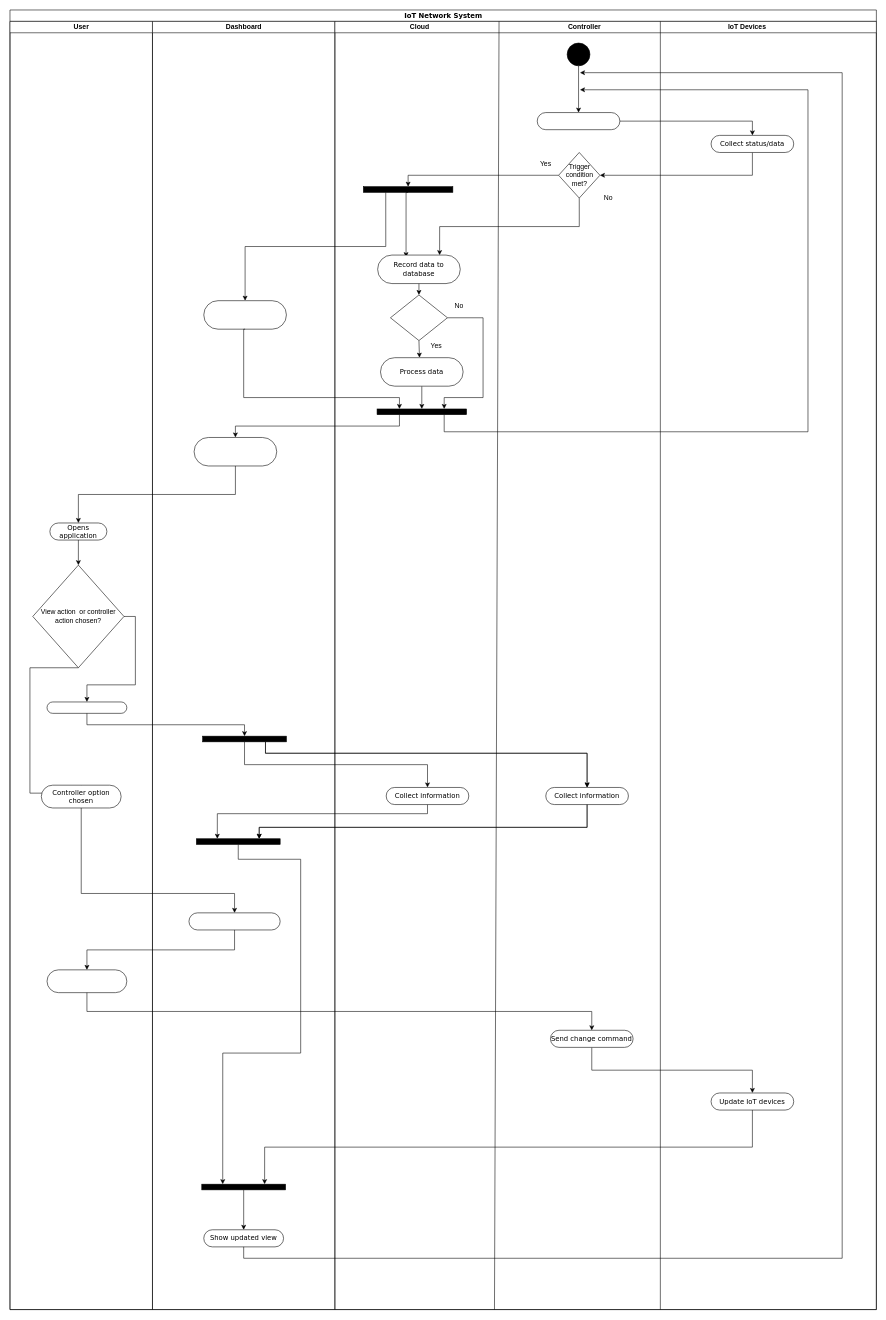
Some shapes in this 886 by 1320 pixel diagram are drawn without their labels. Here are the shapes that lost their labels. From the top down, the box of each, then its label:
(537, 112, 620, 130): Check device every X seconds
(203, 300, 286, 329): Notification message appears, user prompted an action
(390, 294, 447, 341): Scheduled processing time?
(194, 437, 277, 466): Update Dashboard
(46, 701, 127, 713): View action is chosen
(188, 912, 280, 930): Show controller options for each device
(46, 969, 127, 993): Choose device and desired change
